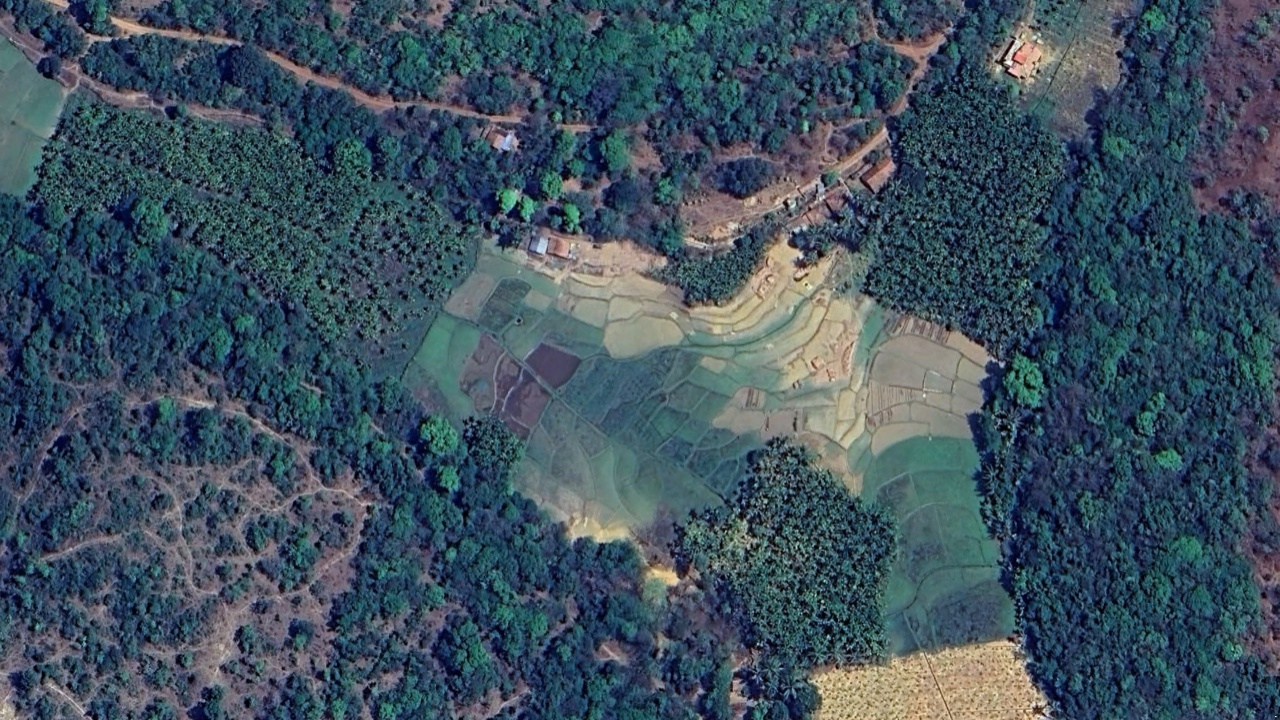arecanut: (37, 64, 353, 324), (869, 68, 1073, 358), (685, 431, 905, 664), (460, 407, 524, 471)
